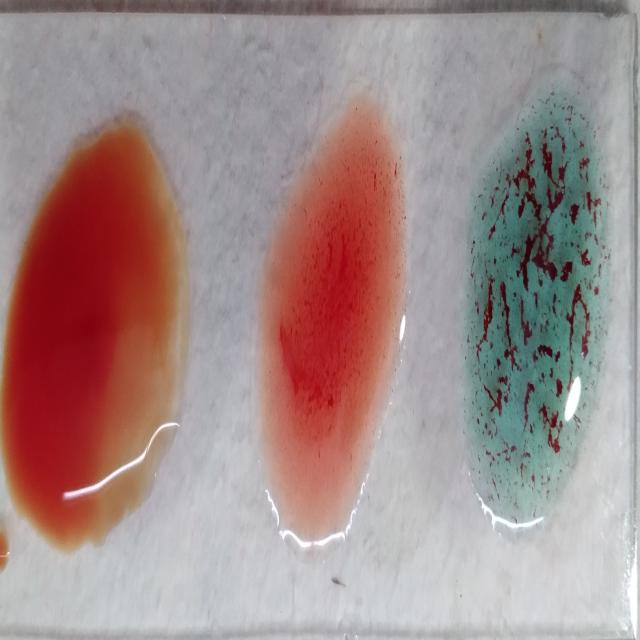A: (464, 69, 611, 510)
D: (266, 106, 404, 536)
